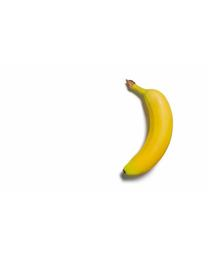banana: (120, 79, 173, 178)
